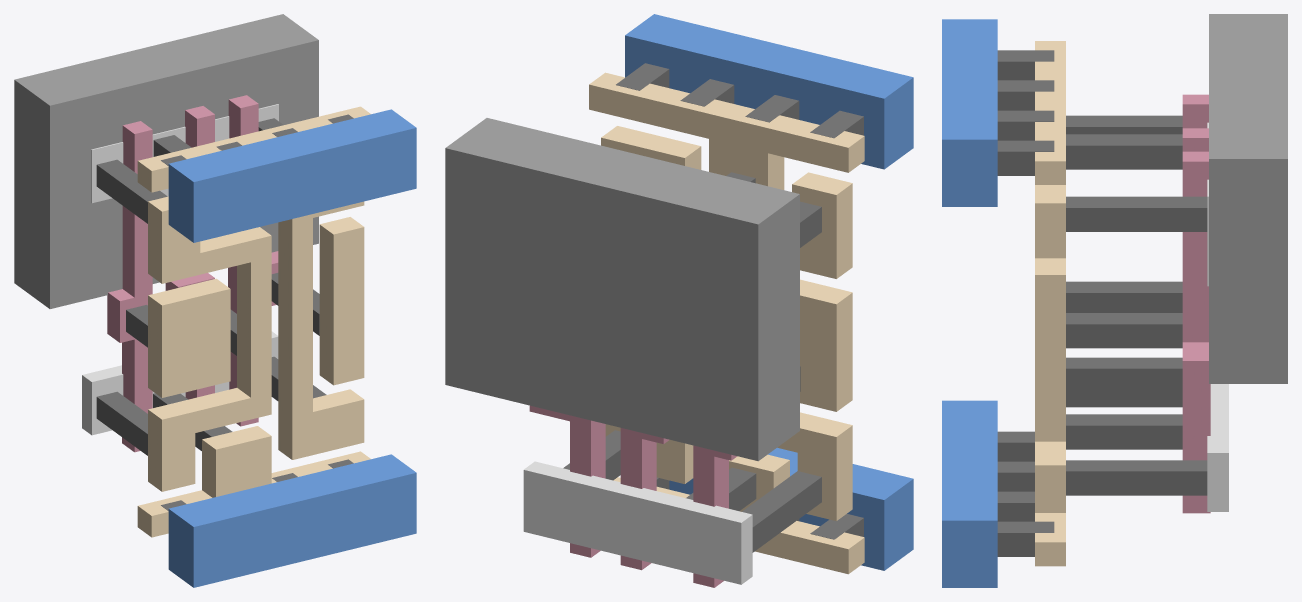
The model's file is sky130_fd_sc_hd__einvn_0.gds.gltf.
3 renders of one model, left to right at view 1: azimuth 30°, elevation 25°; view 2: azimuth 150°, elevation 25°; view 3: azimuth 270°, elevation 25°, orthographic. The views are drawn at different scales.
Visible parts, largest first — view 1: sky130_fd_sc_hd__einvn_0_li1, sky130_fd_sc_hd__einvn_0_met1, sky130_fd_sc_hd__einvn_0_nwell, sky130_fd_sc_hd__einvn_0_poly, sky130_fd_sc_hd__einvn_0_licon, sky130_fd_sc_hd__einvn_0_diff, sky130_fd_sc_hd__einvn_0_mcon; view 2: sky130_fd_sc_hd__einvn_0_nwell, sky130_fd_sc_hd__einvn_0_li1, sky130_fd_sc_hd__einvn_0_met1, sky130_fd_sc_hd__einvn_0_diff, sky130_fd_sc_hd__einvn_0_poly, sky130_fd_sc_hd__einvn_0_licon, sky130_fd_sc_hd__einvn_0_mcon; view 3: sky130_fd_sc_hd__einvn_0_licon, sky130_fd_sc_hd__einvn_0_nwell, sky130_fd_sc_hd__einvn_0_met1, sky130_fd_sc_hd__einvn_0_li1, sky130_fd_sc_hd__einvn_0_mcon, sky130_fd_sc_hd__einvn_0_poly, sky130_fd_sc_hd__einvn_0_diff.
Boxes of the visible parts, x1,y1,x2,y2 form: sky130_fd_sc_hd__einvn_0_li1: (137,106,370,537); sky130_fd_sc_hd__einvn_0_met1: (168,109,416,587); sky130_fd_sc_hd__einvn_0_nwell: (14,14,318,308); sky130_fd_sc_hd__einvn_0_poly: (107,95,278,452); sky130_fd_sc_hd__einvn_0_licon: (96,118,326,455); sky130_fd_sc_hd__einvn_0_diff: (82,104,278,435); sky130_fd_sc_hd__einvn_0_mcon: (161,114,353,510); sky130_fd_sc_hd__einvn_0_nwell: (445,118,799,461); sky130_fd_sc_hd__einvn_0_li1: (589,72,864,574); sky130_fd_sc_hd__einvn_0_met1: (625,14,913,570); sky130_fd_sc_hd__einvn_0_diff: (523,461,752,584); sky130_fd_sc_hd__einvn_0_poly: (529,405,736,587); sky130_fd_sc_hd__einvn_0_licon: (563,172,821,552); sky130_fd_sc_hd__einvn_0_mcon: (616,63,863,539); sky130_fd_sc_hd__einvn_0_licon: (1066,115,1207,495); sky130_fd_sc_hd__einvn_0_nwell: (1209,14,1287,383); sky130_fd_sc_hd__einvn_0_met1: (942,19,997,587); sky130_fd_sc_hd__einvn_0_li1: (1035,41,1065,566); sky130_fd_sc_hd__einvn_0_mcon: (997,50,1054,556); sky130_fd_sc_hd__einvn_0_poly: (1182,94,1210,513); sky130_fd_sc_hd__einvn_0_diff: (1207,122,1228,511).
Bounding box in the file's own units: 2.22 × 3.2 × 2.24.
